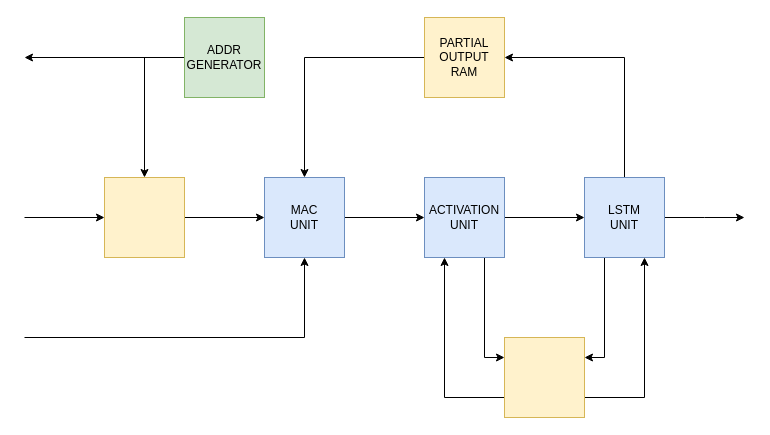
Some shapes in this 770 by 435 pixel diagram are drawn without their labels. The shapes that lost their labels are listed below. From the top down, each one's centre as x and y in pixels, then its label:
the point at 144,217: SHIFT REGISTERS
the point at 544,377: TANH LUT
